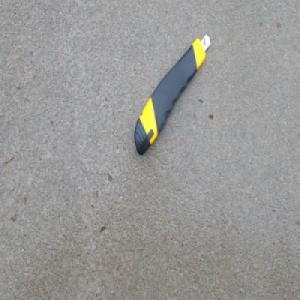Cutter: (133, 32, 212, 156)
